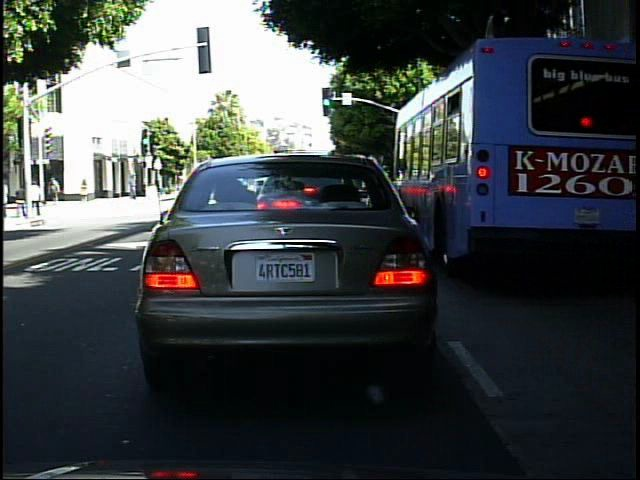person: (30, 176, 47, 219), (46, 173, 66, 207), (125, 170, 143, 204), (77, 172, 93, 208), (14, 179, 25, 221)
